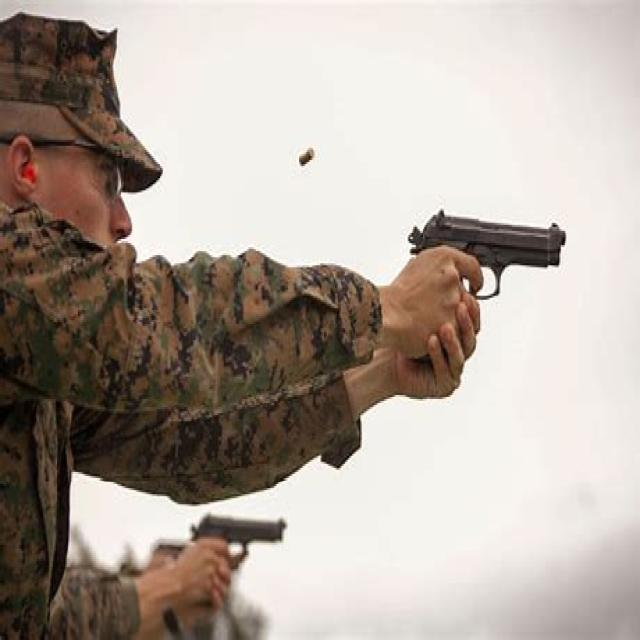weapons: (399, 180, 574, 354)
